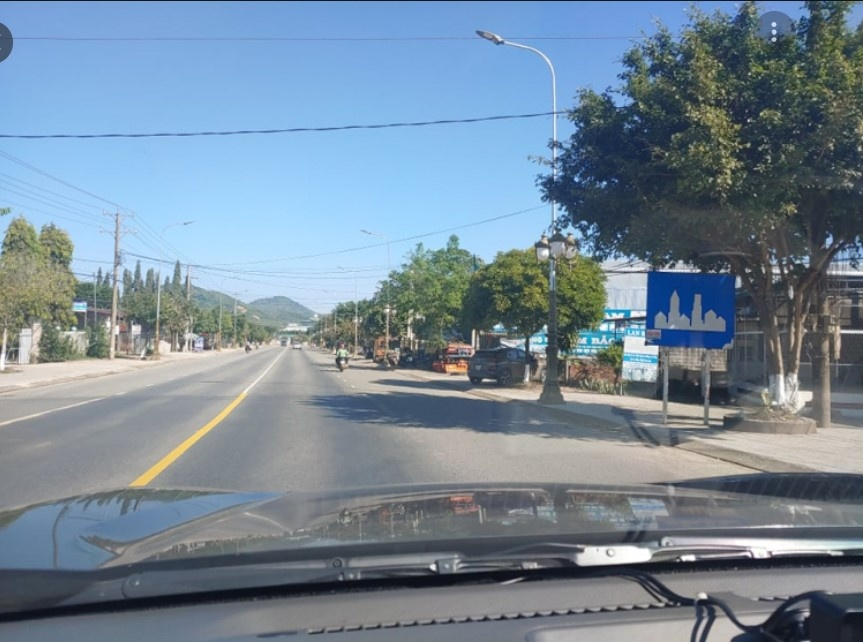Bien khac: (644, 270, 736, 351)
